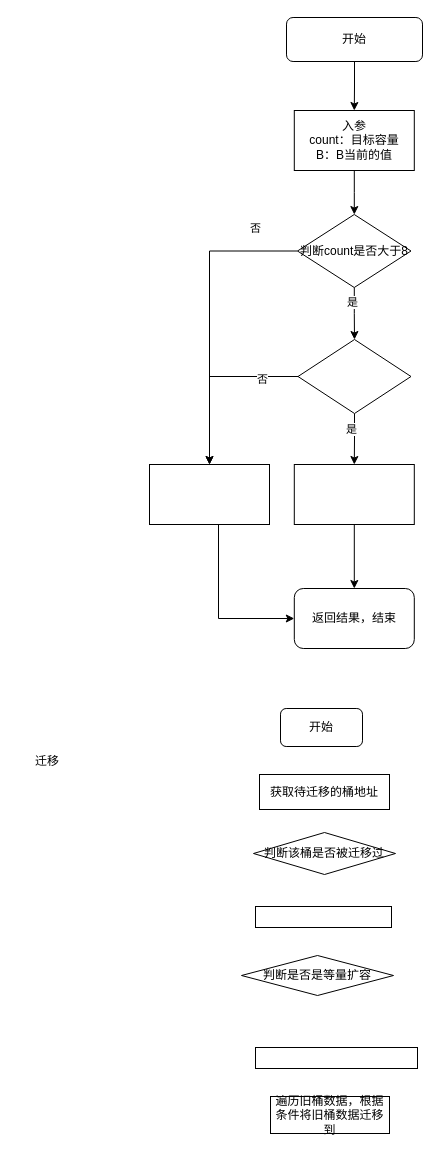
Some shapes in this 440 by 1154 pixel diagram are drawn without their labels. The centre of each missing label's shape, as x and y in pixels:
"判断负载因子是否大于6.5" belongs at [354,376].
"结果为 false" belongs at [209,494].
"结果为 true" belongs at [353,494].
"获取x桶地址" belongs at [323,917].
"获取y桶地址" belongs at [336,1057].
